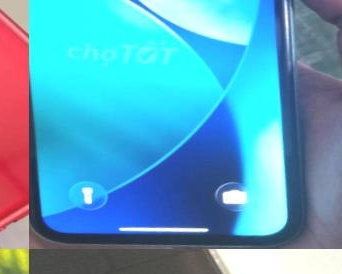scratch: (203, 249, 226, 269)
